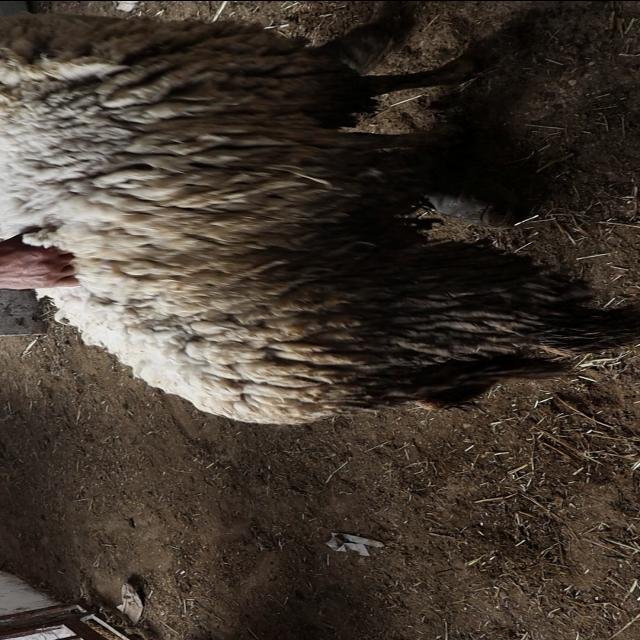Score_4: (0, 13, 639, 424)
